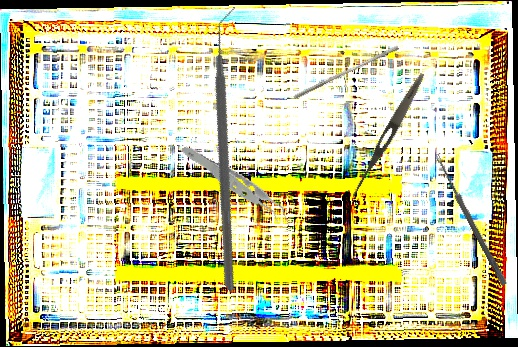Chopper: (99, 6, 365, 293)
Dressing Forceps: (348, 70, 428, 202)
Pusher: (292, 41, 400, 104)
Surgical Spoon: (432, 152, 509, 287)
Tissue Forceps: (179, 120, 292, 254)
